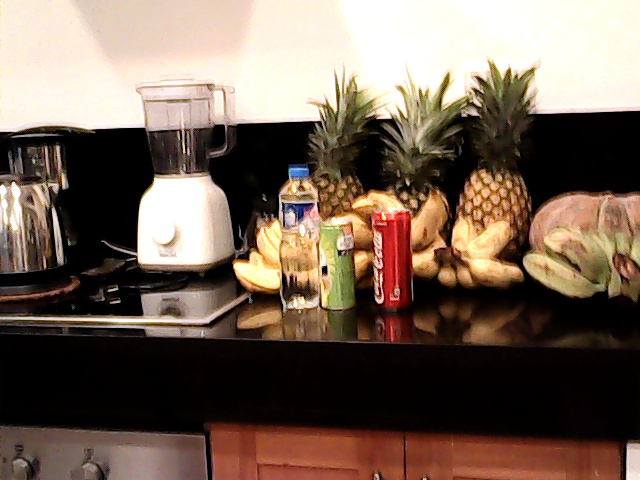Cola: (366, 201, 417, 314)
Pine Juice: (317, 217, 359, 319)
Summit Water: (275, 160, 320, 314)
